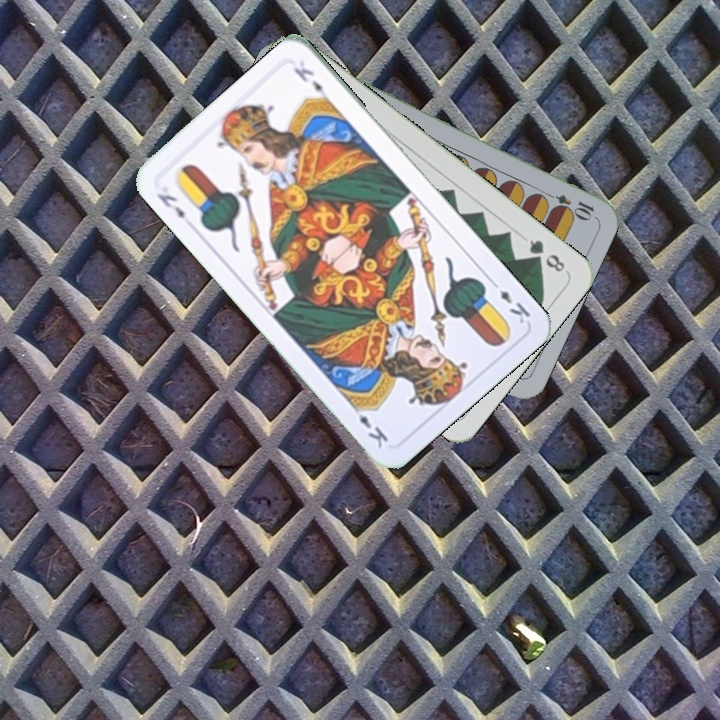E10: (539, 187, 597, 221)
EK: (486, 276, 533, 327), (152, 189, 187, 222)
G8: (524, 235, 568, 275)
